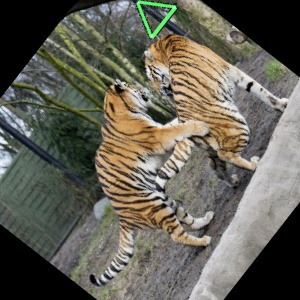triangle: (131, 1, 181, 40)
